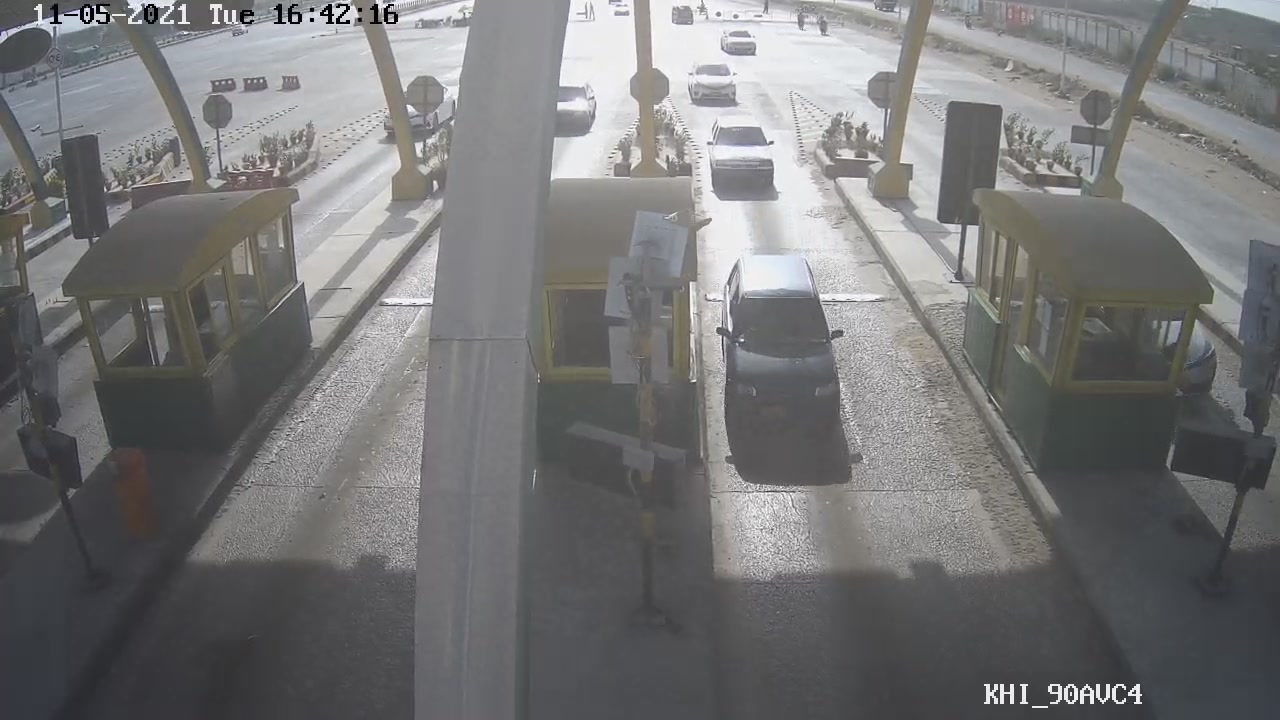F1: (709, 248, 852, 454)
